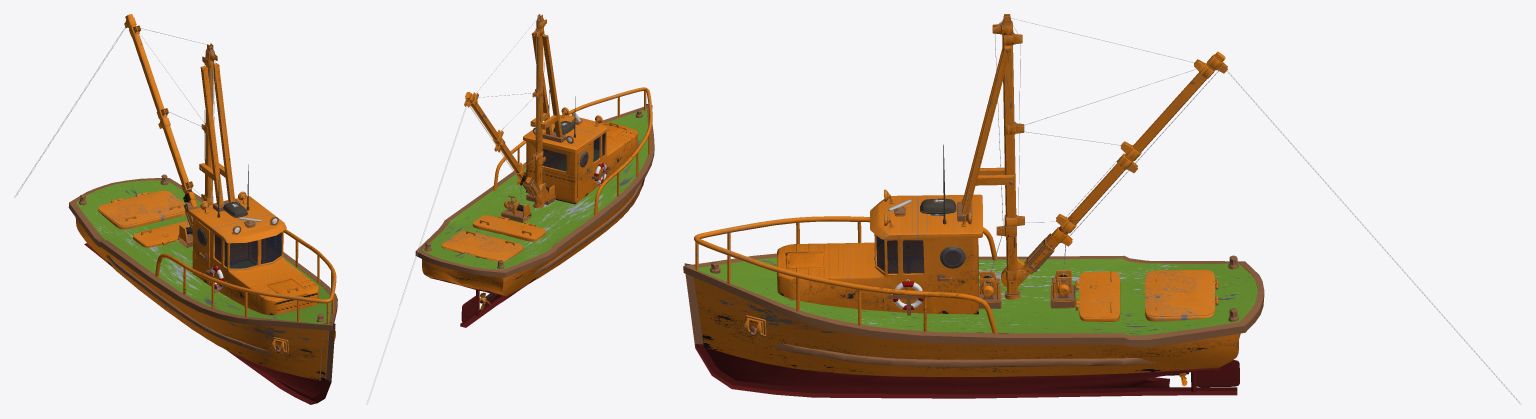
Rendered from boat.gltf.
3 views of the same model, side by side, from view 1: azimuth 30°, elevation 25°; view 2: azimuth 150°, elevation 25°; view 3: azimuth 270°, elevation 25° (orthographic). The views are drawn at different scales.
Visible parts, largest first — view 1: Object_17, Object_12, Object_7, Object_15, Object_16, Object_9, Object_21, Object_20, Object_11, Object_18, Object_22, Object_10; view 2: Object_17, Object_7, Object_12, Object_15, Object_16, Object_9, Object_18, Object_11, Object_21, Object_20, Object_10; view 3: Object_17, Object_7, Object_12, Object_21, Object_15, Object_16, Object_9, Object_11, Object_18, Object_20.
Part boxes in pixels (x1,y1,x2,y2): Object_17: (68,45,337,381); Object_12: (189,196,318,346); Object_7: (76,180,331,324); Object_15: (98,22,305,294); Object_16: (111,14,245,243); Object_9: (79,24,336,381); Object_21: (84,243,331,404); Object_20: (198,232,281,268); Object_11: (133,25,335,353); Object_18: (14,27,215,227); Object_22: (217,164,249,217); Object_10: (184,191,278,234); Object_17: (415,15,654,296); Object_7: (422,108,648,269); Object_12: (479,115,638,309); Object_15: (441,27,626,261); Object_16: (453,33,598,259); Object_9: (424,21,652,268); Object_18: (366,16,546,404); Object_11: (465,14,566,222); Object_21: (429,178,644,327); Object_20: (542,133,604,171); Object_10: (495,107,602,210); Object_17: (683,15,1264,376); Object_7: (693,257,1257,335); Object_12: (751,194,1187,386); Object_21: (695,332,1239,398); Object_15: (785,32,1227,321); Object_16: (889,45,1225,308); Object_9: (684,25,1238,347); Object_11: (741,14,1204,337); Object_18: (989,18,1521,404); Object_20: (876,236,960,273).
Bounding box in the file's own units: 5.35 × 11.85 × 23.11.
Materials: 15 (14 with a texture image).
